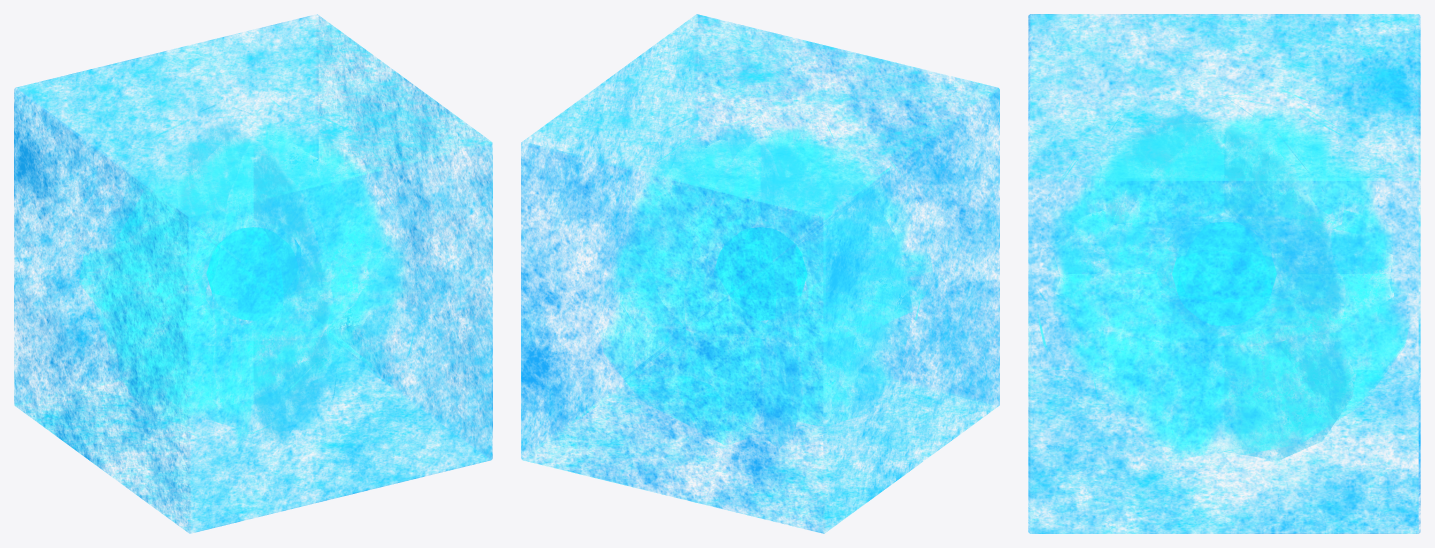
Rendered from tesseract.glb.
3 renders of one model, left to right at view 1: azimuth 30°, elevation 25°; view 2: azimuth 150°, elevation 25°; view 3: azimuth 270°, elevation 25°, orthographic. The views are drawn at different scales.
Parts seen in each view (by area): view 1: Geo_Shell_Shell_0, Geo_core; view 2: Geo_Shell_Shell_0, Geo_core; view 3: Geo_Shell_Shell_0, Geo_core.
Boxes of the visible parts, box(x1,y1,x2,y2) form: Geo_Shell_Shell_0: box(14, 14, 492, 533); Geo_core: box(79, 99, 413, 445); Geo_Shell_Shell_0: box(521, 14, 999, 533); Geo_core: box(600, 114, 932, 447); Geo_Shell_Shell_0: box(1028, 14, 1420, 533); Geo_core: box(1037, 87, 1409, 459).
Bounding box in the file's own units: 0.2789 × 0.2789 × 0.2789.
Materials: 2 (2 with a texture image).
